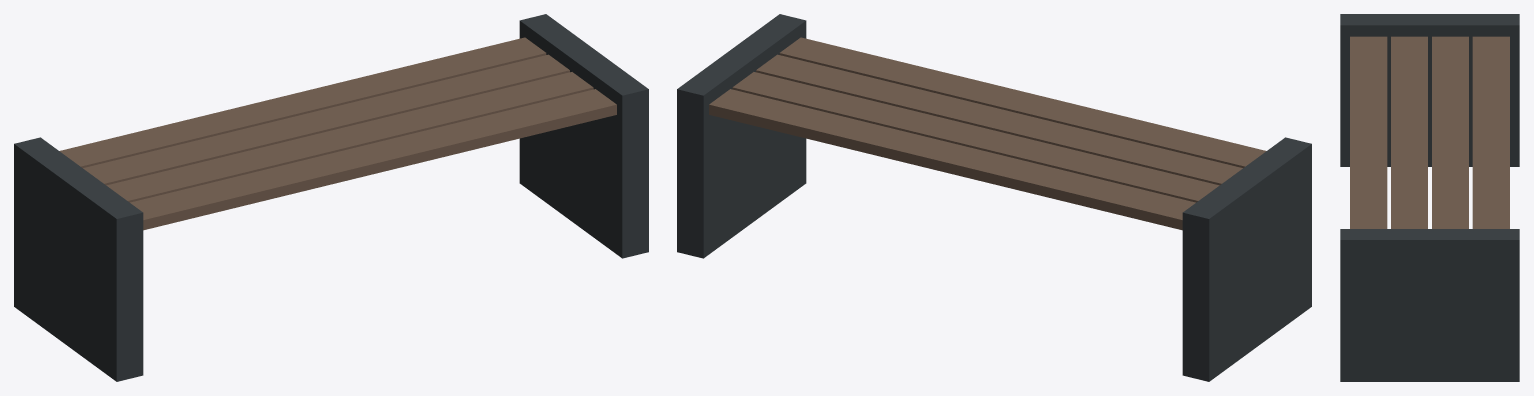
The model's file is Bench_02.fbx.
The picture shows the model from 3 angles, left to right: view 1: azimuth 30°, elevation 25°; view 2: azimuth 150°, elevation 25°; view 3: azimuth 270°, elevation 25°; orthographic projection. The views are drawn at different scales.
Visible parts, largest first — view 1: Bench_02; view 2: Bench_02; view 3: Bench_02.
Part boxes in pixels (x1,y1,x2,y2): Bench_02: (14,14,648,381); Bench_02: (677,14,1311,381); Bench_02: (1340,14,1519,381).
Size of the model in its own units: 171 by 50 by 57.18.
